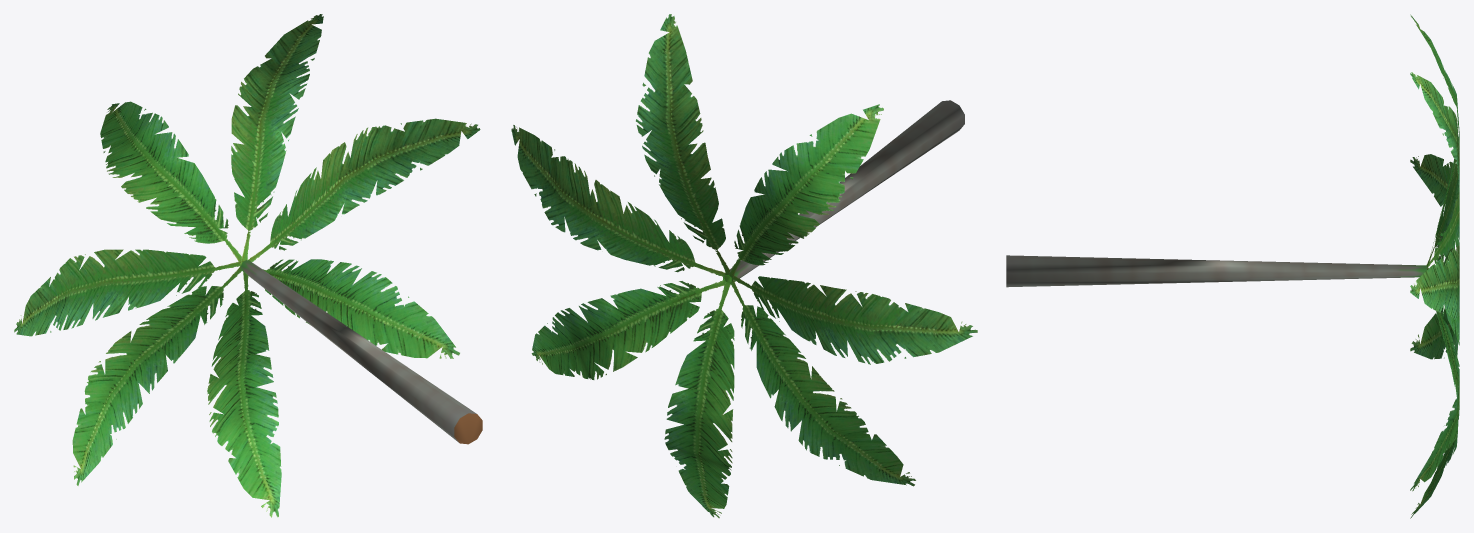
The model's file is tree baru 1.fbx.
3 renders of one model, left to right at view 1: azimuth 30°, elevation 25°; view 2: azimuth 150°, elevation 25°; view 3: azimuth 270°, elevation 25°, orthographic. The views are drawn at different scales.
Visible parts, largest first — view 1: Cylinder; view 2: Cylinder; view 3: Cylinder.
Boxes of the visible parts, x1,y1,x2,y2 form: Cylinder: [14, 14, 482, 517]; Cylinder: [511, 14, 977, 518]; Cylinder: [1006, 14, 1459, 518].
Size of the model in its own units: 1039 by 1052 by 926.
